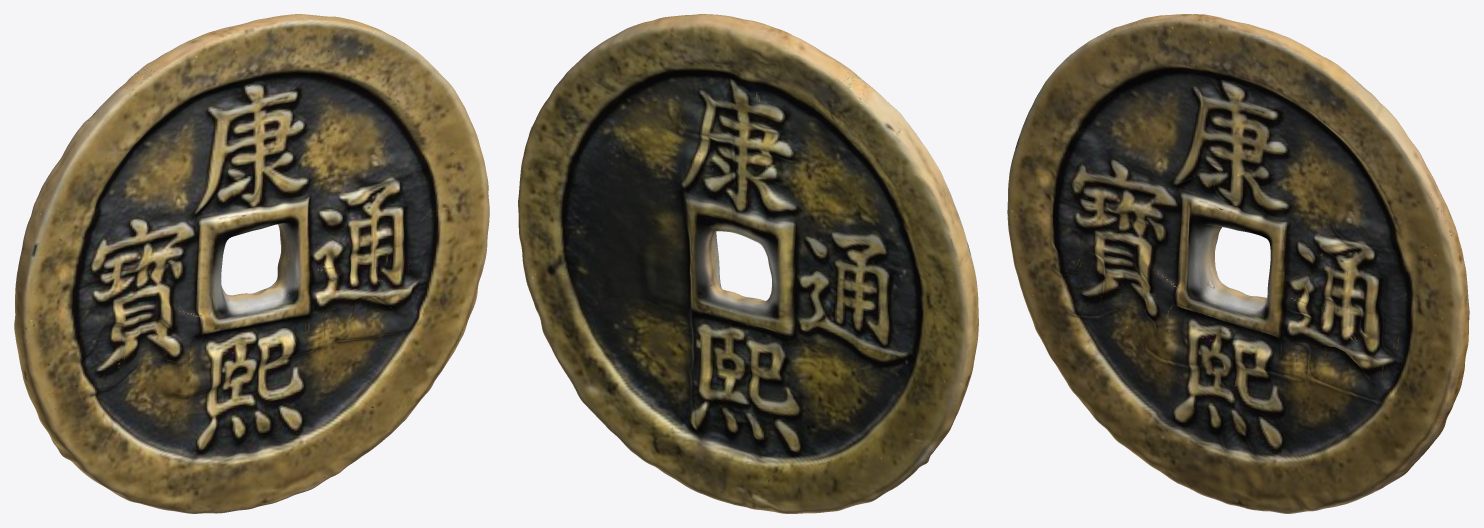
File: coin_optimized.glb
The picture shows the model from 3 angles, left to right: view 1: azimuth 30°, elevation 25°; view 2: azimuth 150°, elevation 25°; view 3: azimuth 330°, elevation 25°; orthographic projection.
Bounding box in the file's own units: 2 × 2 × 0.1405.
Materials: 1 (1 with a texture image).
